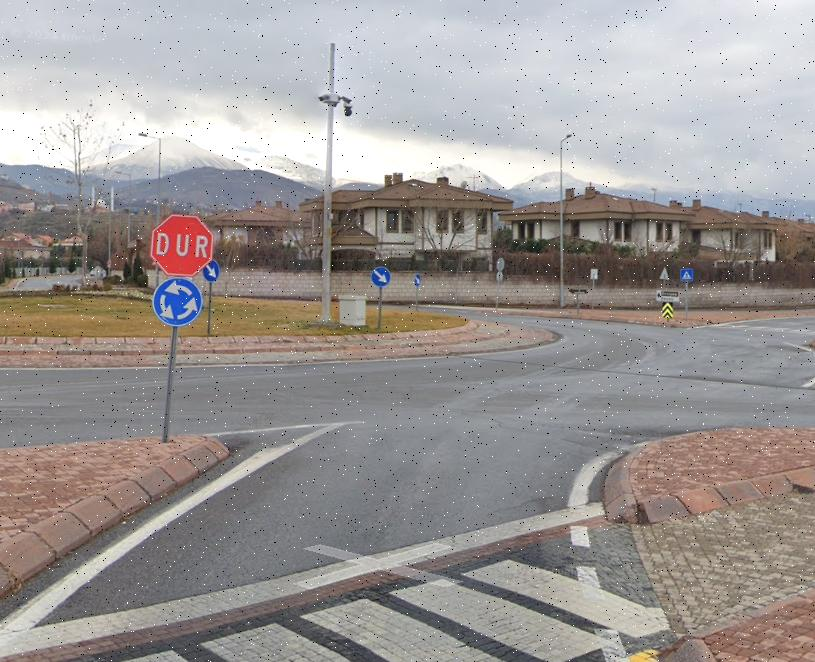crossroads: (154, 277, 204, 326)
stop: (152, 213, 215, 276)
